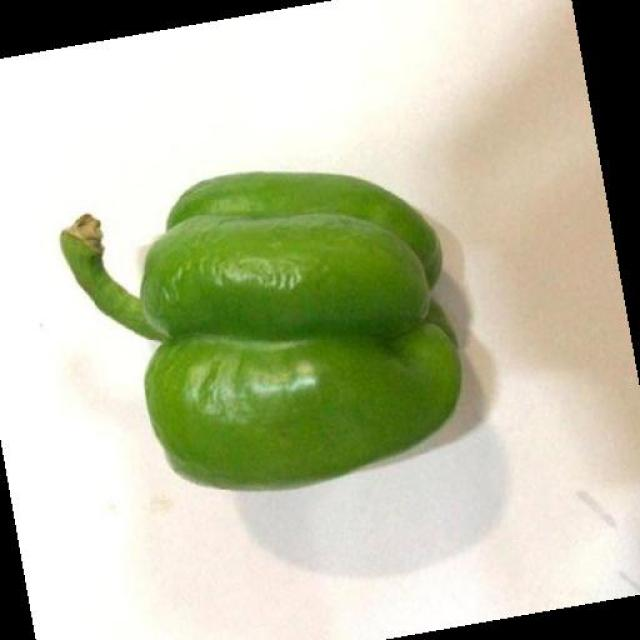Fresh_Capsicum: (70, 160, 470, 490)
